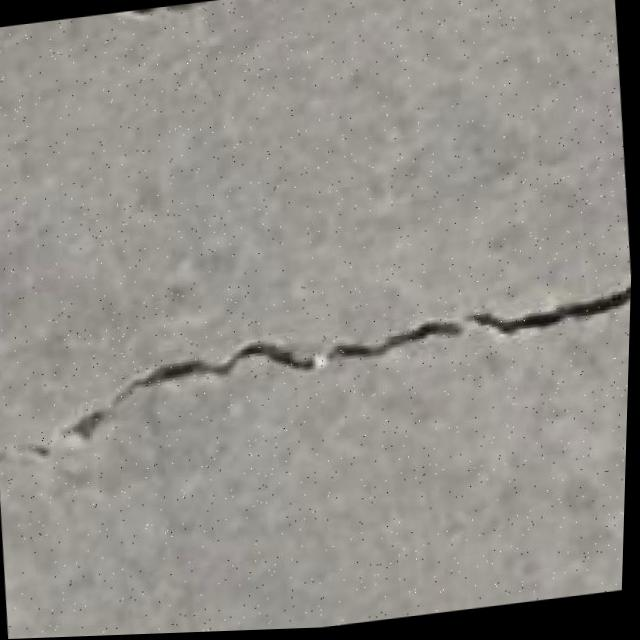Crack: (0, 281, 633, 482)
